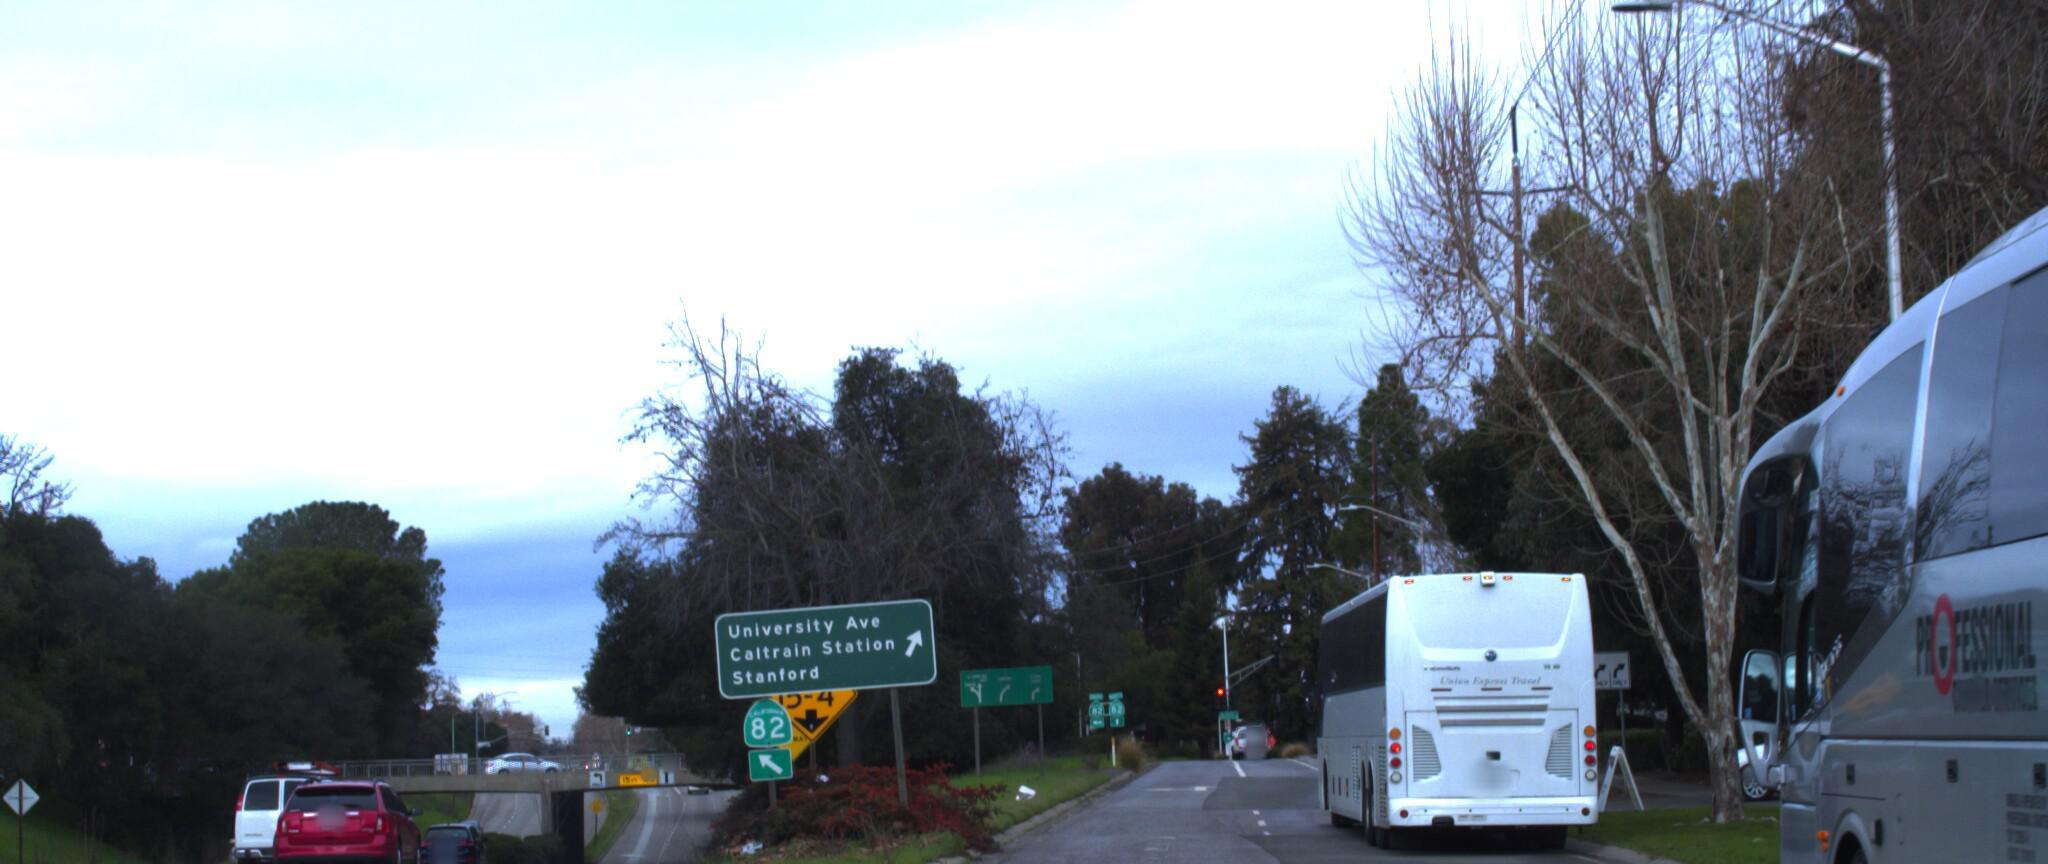bus: (1301, 548, 1620, 841)
car: (204, 747, 353, 864), (268, 760, 435, 864)
